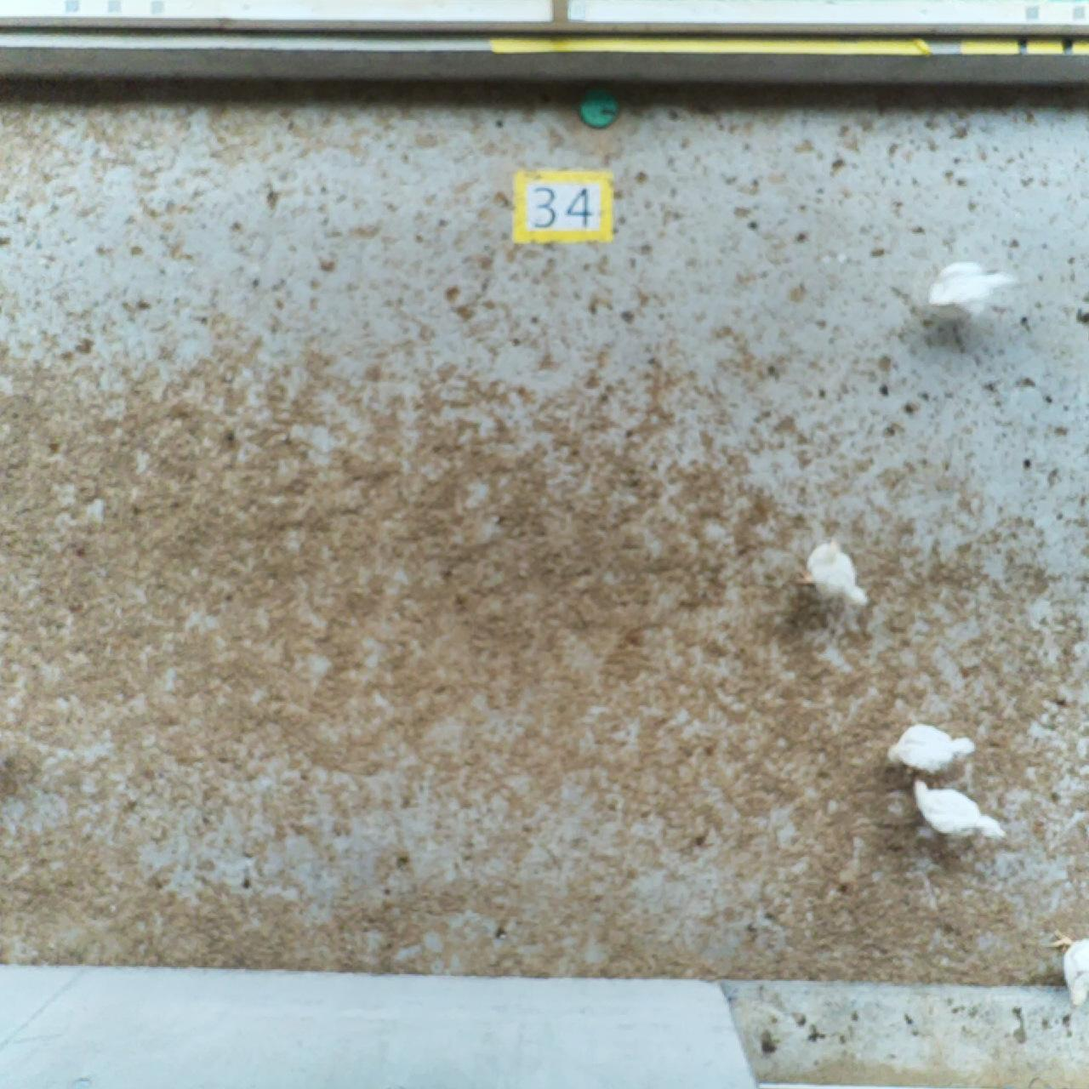chicken: (914, 237, 1037, 359), (786, 524, 877, 642), (901, 775, 1025, 841), (888, 711, 993, 782), (1029, 925, 1089, 1005)
